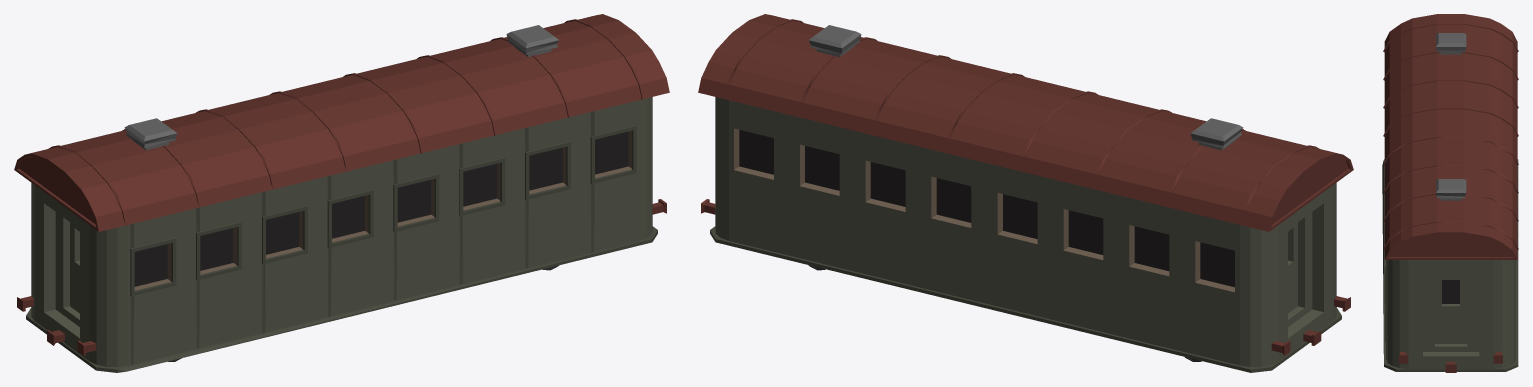
The model's file is locomotive-passenger-wagon.glb.
The picture shows the model from 3 angles, left to right: view 1: azimuth 30°, elevation 25°; view 2: azimuth 150°, elevation 25°; view 3: azimuth 270°, elevation 25°; orthographic projection. The views are drawn at different scales.
Visible parts, largest first — view 1: FrontWheels; view 2: FrontWheels; view 3: FrontWheels.
Part boxes in pixels (bbox=[...]): FrontWheels: bbox=[14, 14, 669, 372]; FrontWheels: bbox=[698, 14, 1353, 372]; FrontWheels: bbox=[1382, 14, 1518, 372].
Bounding box in the file's own units: 8.06 × 2.95 × 2.08.
Materials: 1 (1 with a texture image).
